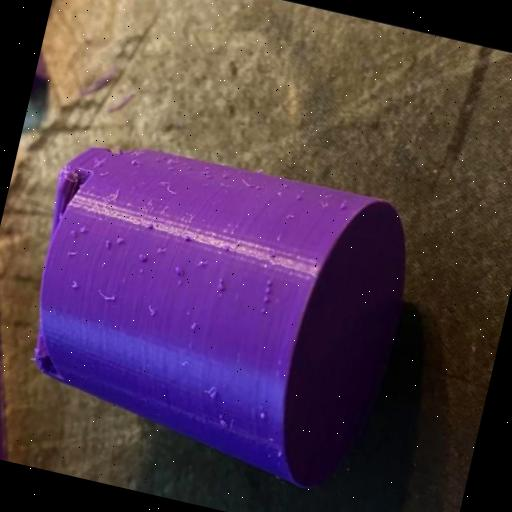blobs: (215, 412, 232, 434), (216, 278, 230, 292), (101, 234, 114, 248), (126, 155, 140, 168), (255, 303, 268, 316), (262, 274, 274, 288), (66, 226, 78, 240), (78, 222, 90, 236), (188, 320, 200, 334), (136, 249, 148, 262), (174, 264, 186, 276), (260, 292, 271, 304), (292, 190, 304, 201), (116, 234, 126, 246), (259, 408, 268, 421), (145, 221, 155, 232), (154, 154, 164, 164), (264, 282, 272, 294)
